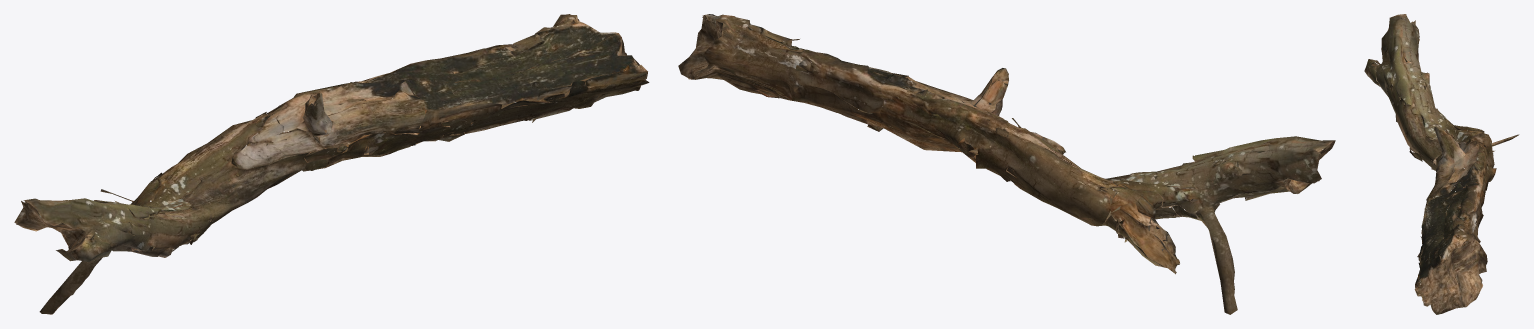
Rendered from dead_tree_trunk_02.glb.
3 views of the same model, side by side, from view 1: azimuth 30°, elevation 25°; view 2: azimuth 150°, elevation 25°; view 3: azimuth 270°, elevation 25° (orthographic). The views are drawn at different scales.
Visible parts, largest first — view 1: dead_tree_trunk_02; view 2: dead_tree_trunk_02; view 3: dead_tree_trunk_02.
Part boxes in pixels (x1=…): dead_tree_trunk_02: x1=14, y1=14, x2=649, y2=314; dead_tree_trunk_02: x1=678, y1=14, x2=1335, y2=314; dead_tree_trunk_02: x1=1364, y1=14, x2=1519, y2=314.
Size of the model in its own units: 4.05 by 1.06 by 1.05.
Materials: 1 (1 with a texture image).
